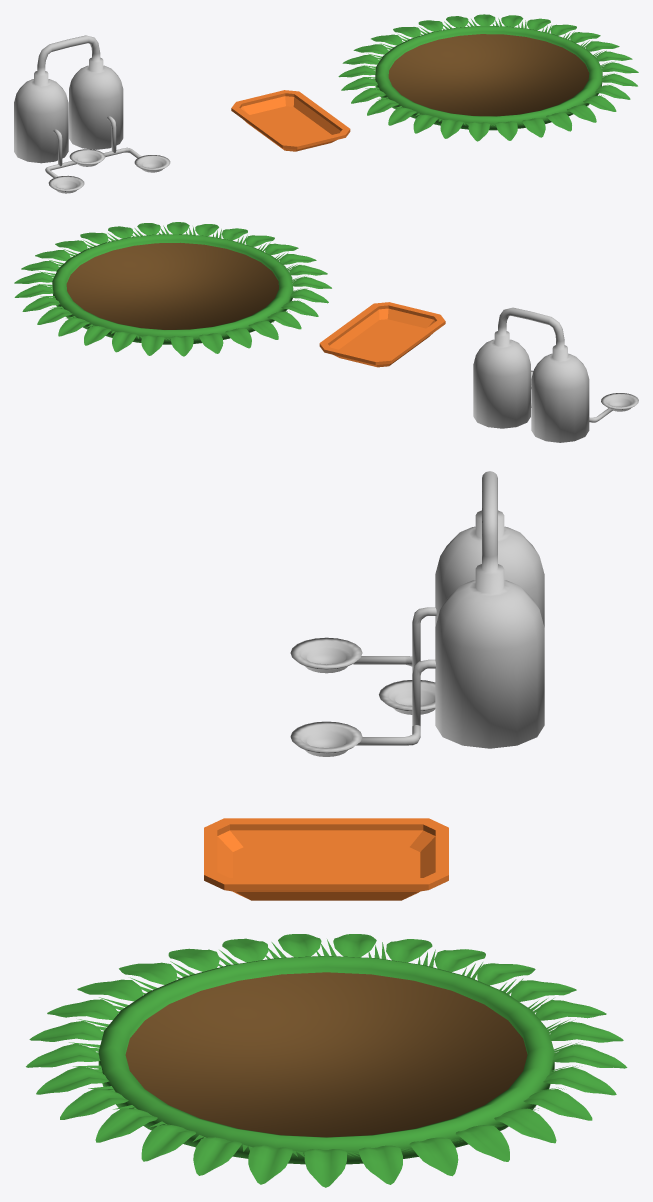
The model's file is Props2.fbx.
3 views of the same model, one above another, from view 1: azimuth 30°, elevation 25°; view 2: azimuth 150°, elevation 25°; view 3: azimuth 270°, elevation 25° (orthographic). The views are drawn at different scales.
Visible parts, largest first — view 1: Circle, Maquina, Hojas, Cube; view 2: Circle, Maquina, Hojas, Cube; view 3: Circle, Hojas, Maquina, Cube.
Part boxes in pixels (box(x1,y1,x2,y2)): Circle: box(375, 26, 602, 130); Maquina: box(14, 35, 170, 193); Hojas: box(338, 14, 638, 141); Cube: box(231, 90, 350, 151); Circle: box(52, 234, 293, 344); Maquina: box(473, 307, 638, 442); Hojas: box(14, 222, 331, 356); Cube: box(319, 302, 445, 367); Circle: box(98, 956, 554, 1164); Hojas: box(26, 934, 627, 1187); Maquina: box(290, 471, 544, 756); Cube: box(204, 818, 448, 900).
Size of the model in its own units: 4127 by 755 by 1892.
